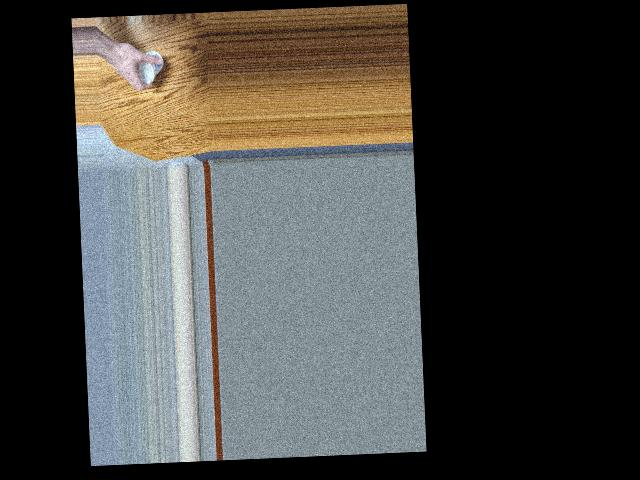cotage: (138, 48, 165, 90)
